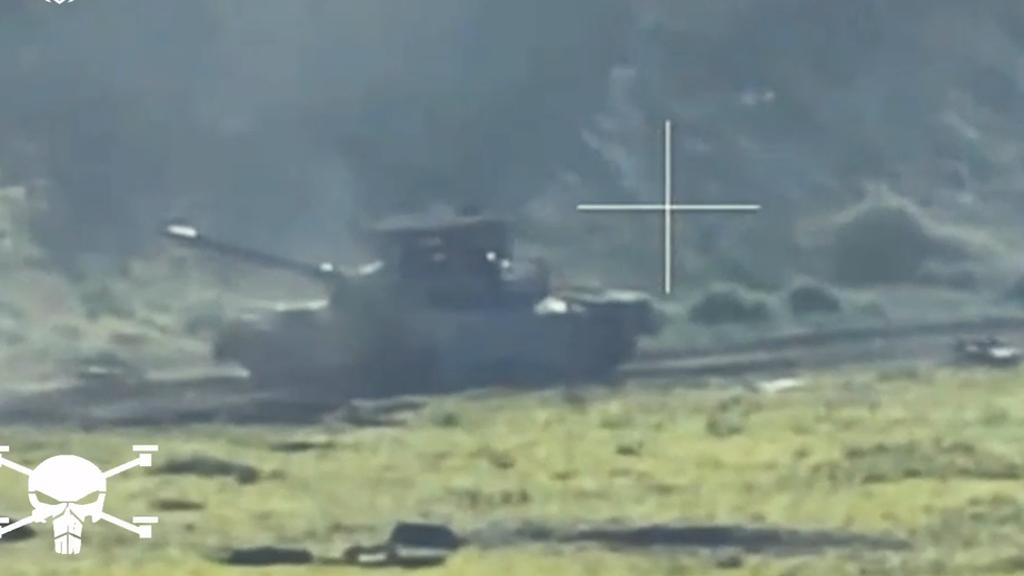TANK: (154, 216, 663, 395)
